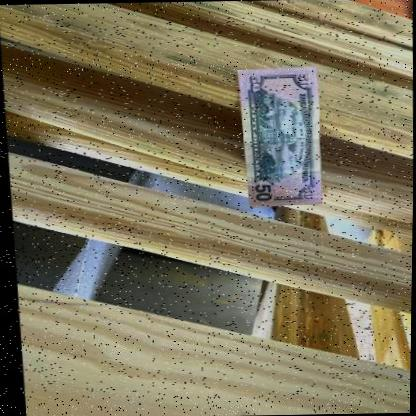dollar_back: (232, 66, 325, 206)
